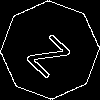Z: (25, 25, 79, 79)
